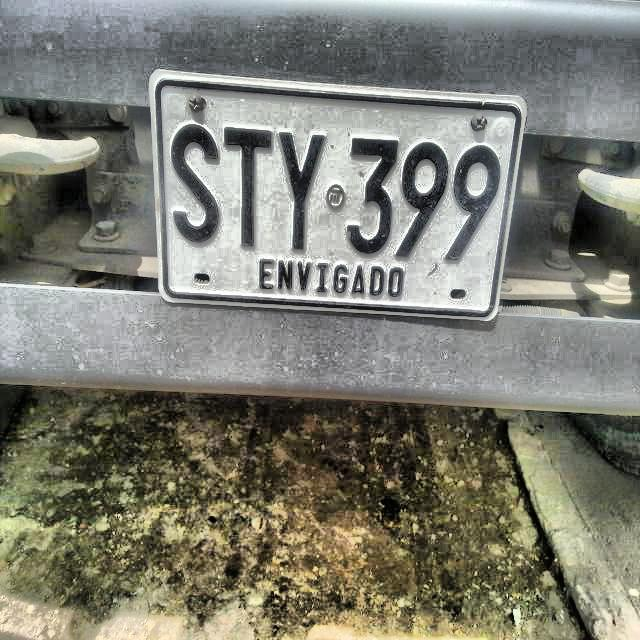plate: (158, 79, 519, 315)
